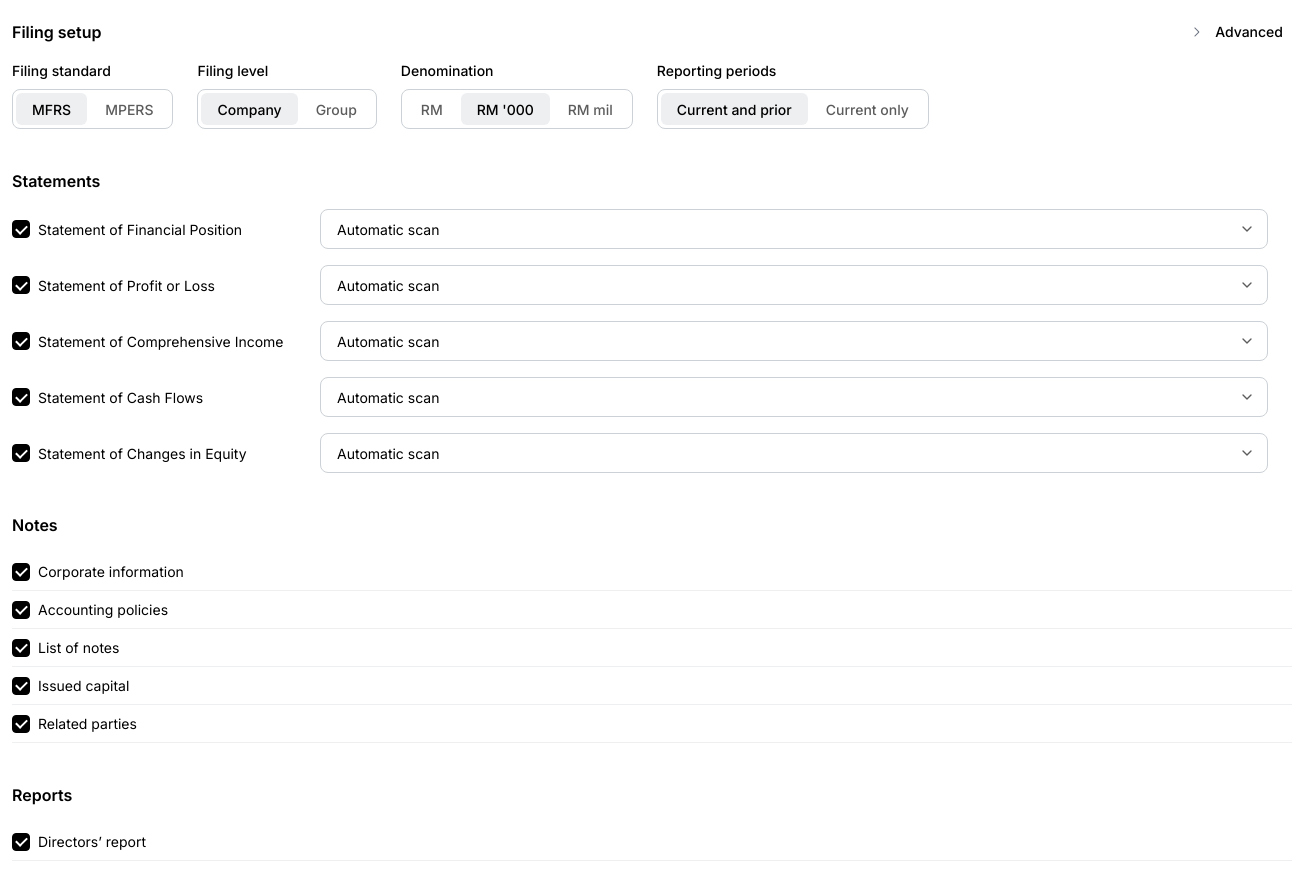
Scenario: PreRunPanel › scout returning zero detected statements keeps rows enabled + shows notice
This screenshot has width=1304, height=871.
Click the button with test id "advanced-toggle": (1235, 32) x1=1178 y1=12 x2=1292 y2=52
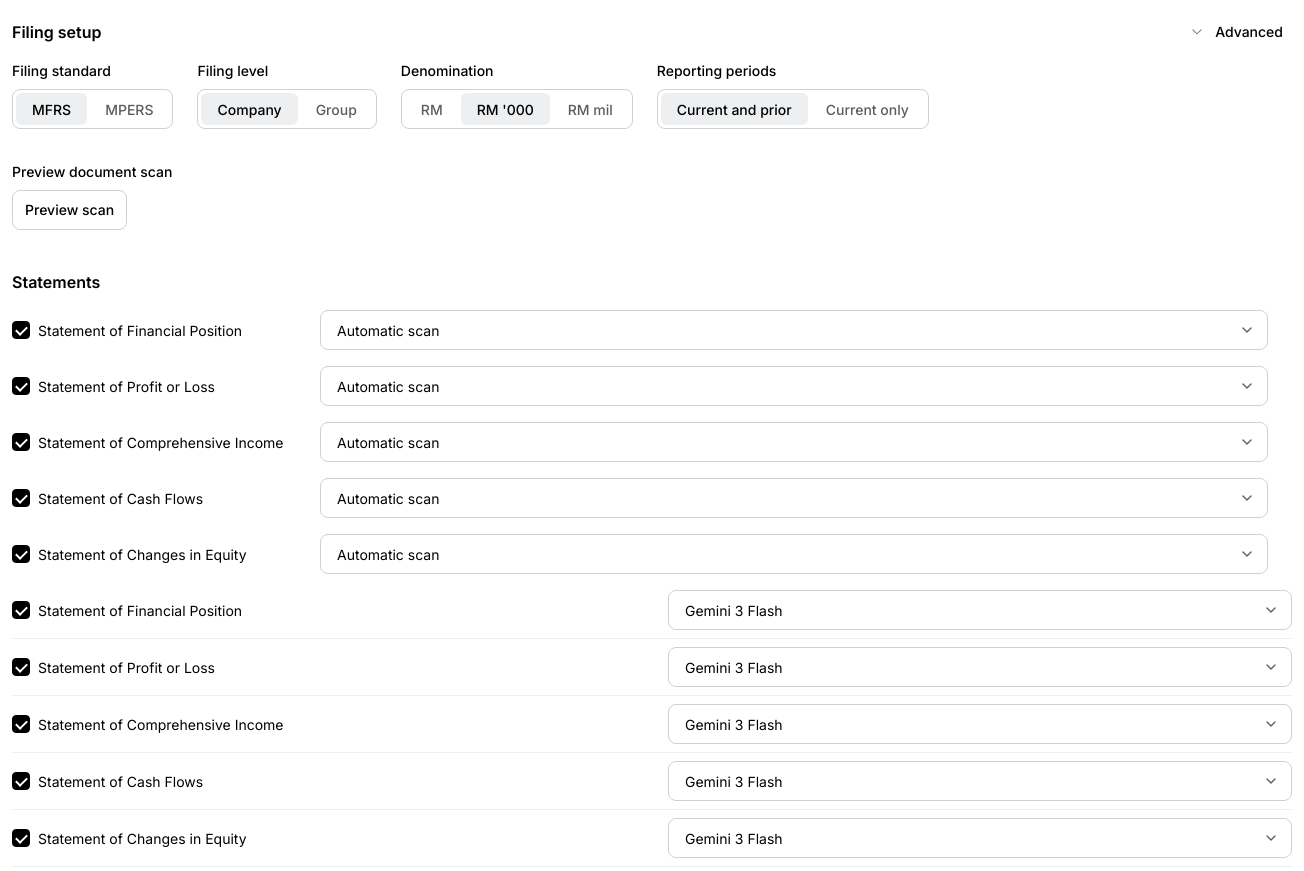
Check: the 1st checkbox labelled "Statement of Financial Position" is checked, box x1=12 y1=321 x2=30 y2=339
Check: the button with aria-label "auto-detect" is shown
Click the button with aria-label "auto-detect": (70, 210) x1=12 y1=190 x2=127 y2=230
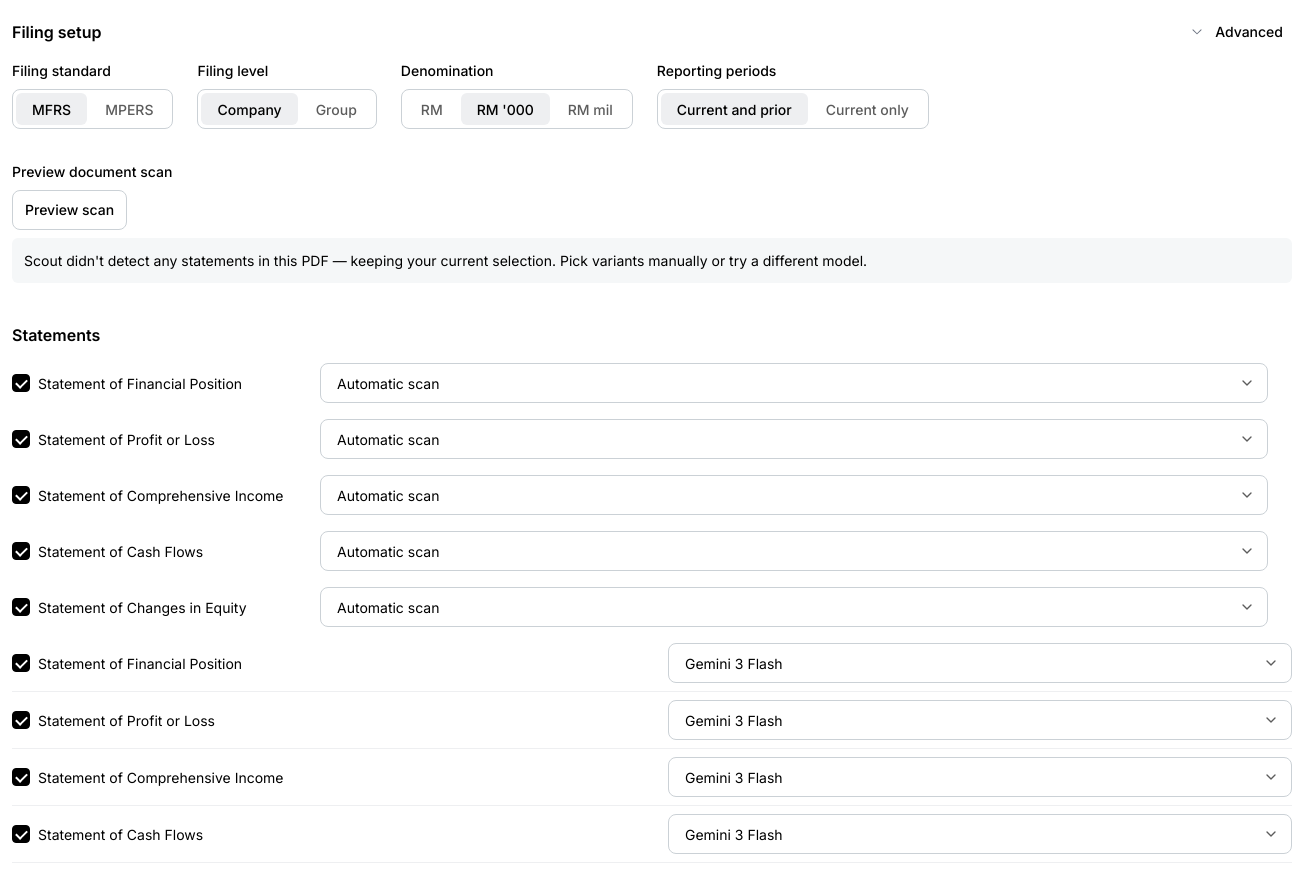
Check: the 1st checkbox labelled "Statement of Financial Position" is checked, box x1=12 y1=374 x2=30 y2=392
Check: the text "didn't detect any statements" is shown, box x1=24 y1=252 x2=867 y2=269
